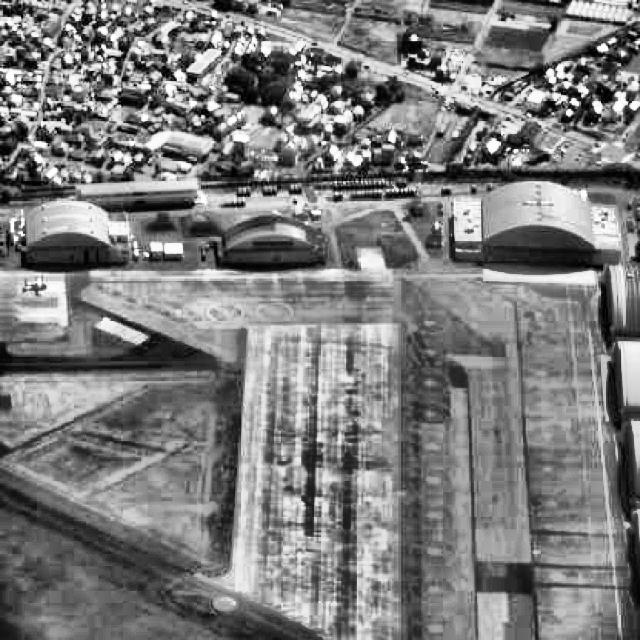V22: (23, 272, 48, 293)
